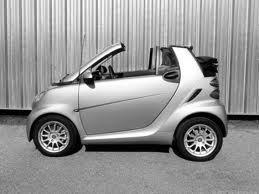car: (26, 45, 230, 164)
